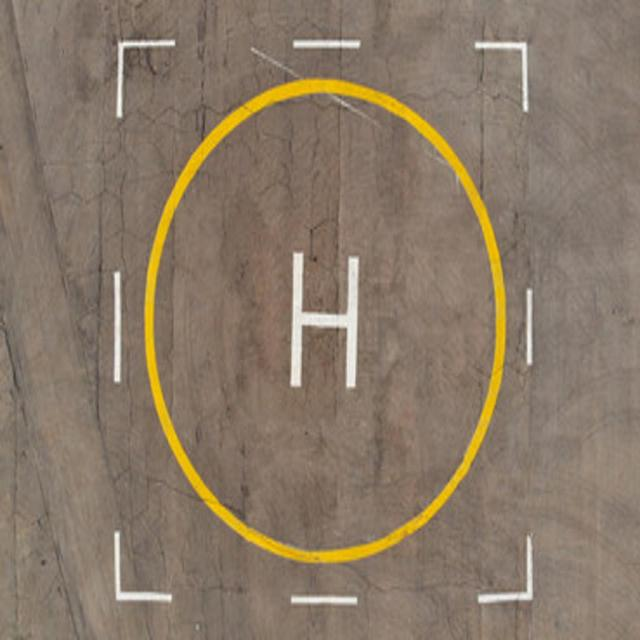helipad: (139, 76, 510, 566)
